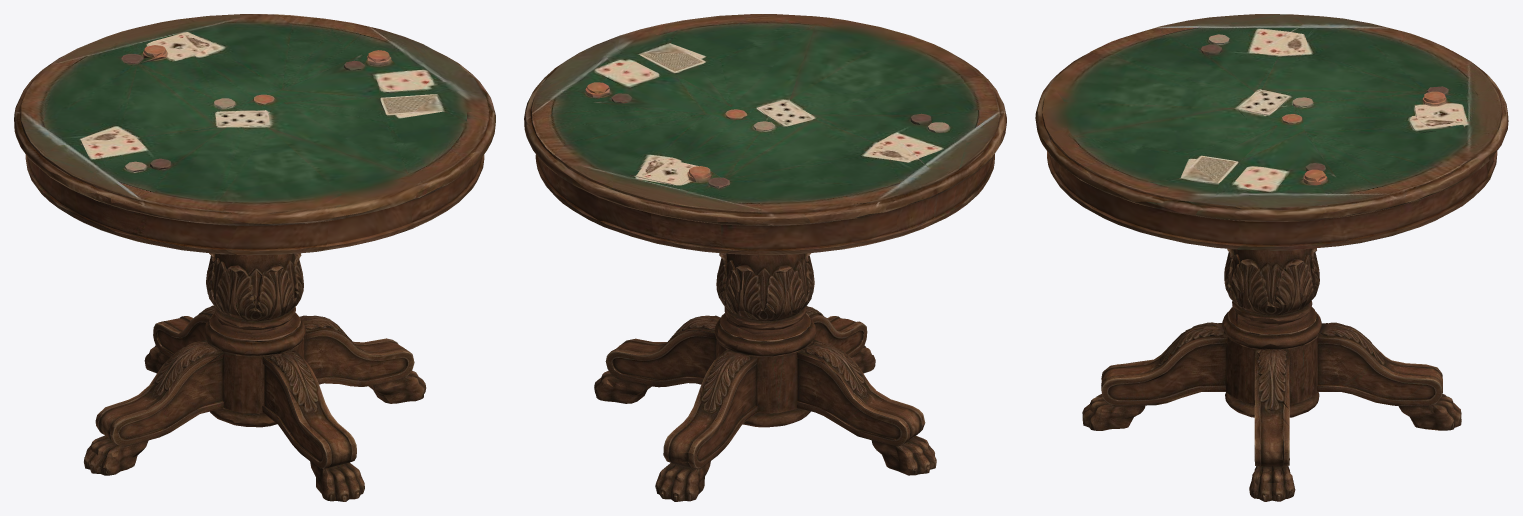
The model's file is sp_m_cardtable.glb.
The picture shows the model from 3 angles, left to right: view 1: azimuth 30°, elevation 25°; view 2: azimuth 150°, elevation 25°; view 3: azimuth 270°, elevation 25°; orthographic projection.
Visible parts, largest first — view 1: Mesh_0; view 2: Mesh_0; view 3: Mesh_0.
Part boxes in pixels (x1,y1,x2,y2): Mesh_0: [14, 14, 495, 501]; Mesh_0: [524, 14, 1006, 501]; Mesh_0: [1035, 14, 1508, 501].
Size of the model in its own units: 1.9 by 1.41 by 1.9.
Materials: 1 (1 with a texture image).
